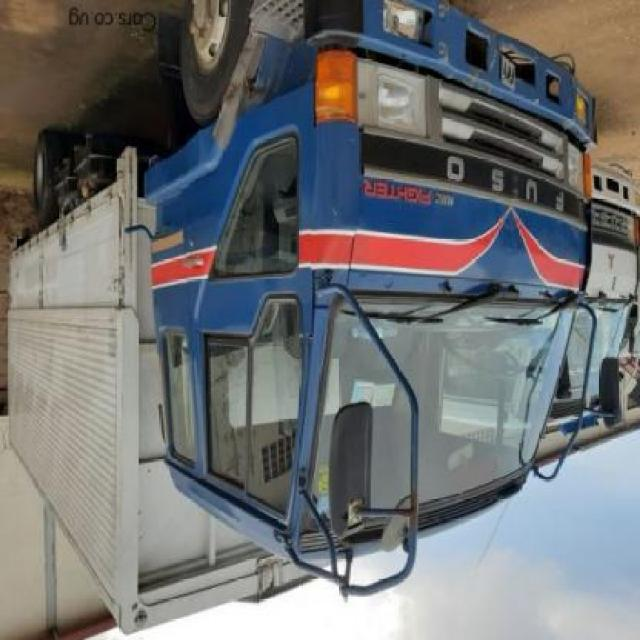truck: (11, 2, 622, 637)
